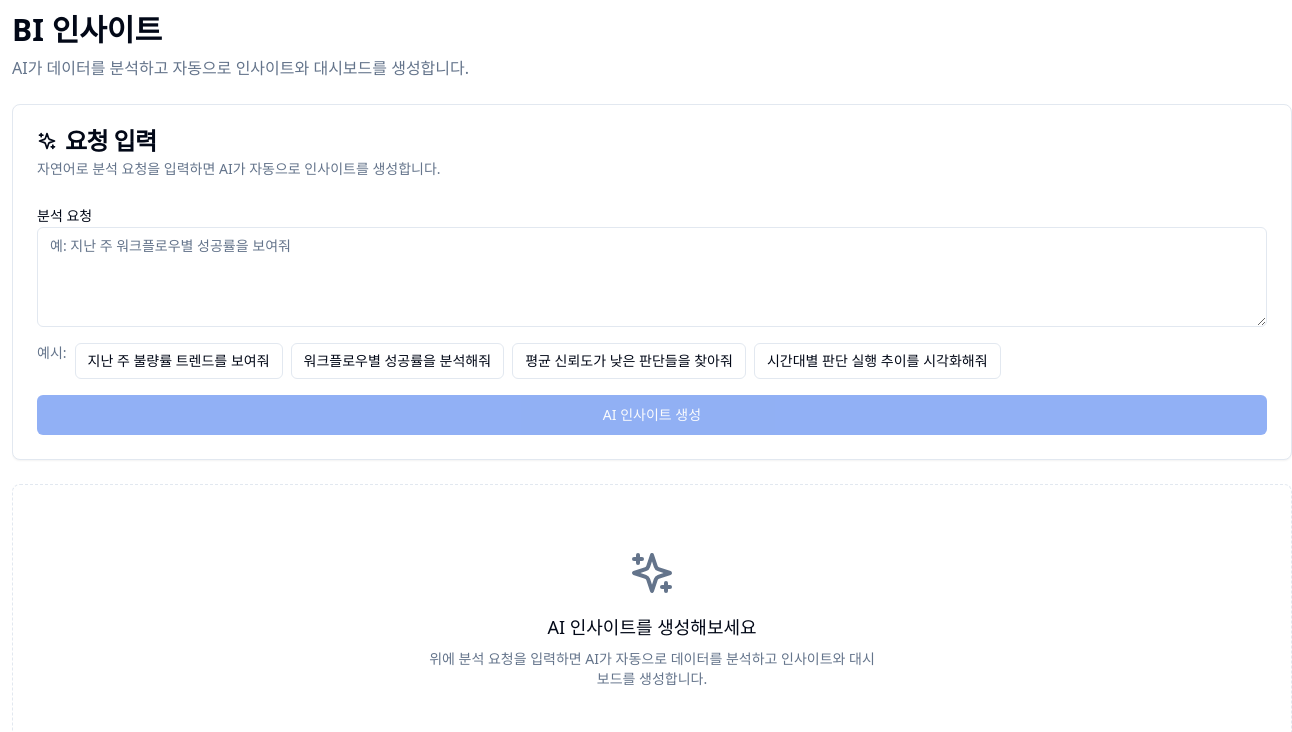
it: BiInsights › Group 2: Example Buttons › 여러 예시 버튼 클릭시 덮어쓰기
# 첫 번째 예시 클릭
Click the button "워크플로우별 성공률을 분석해줘" at (397, 361), box x1=290 y1=343 x2=504 y2=379
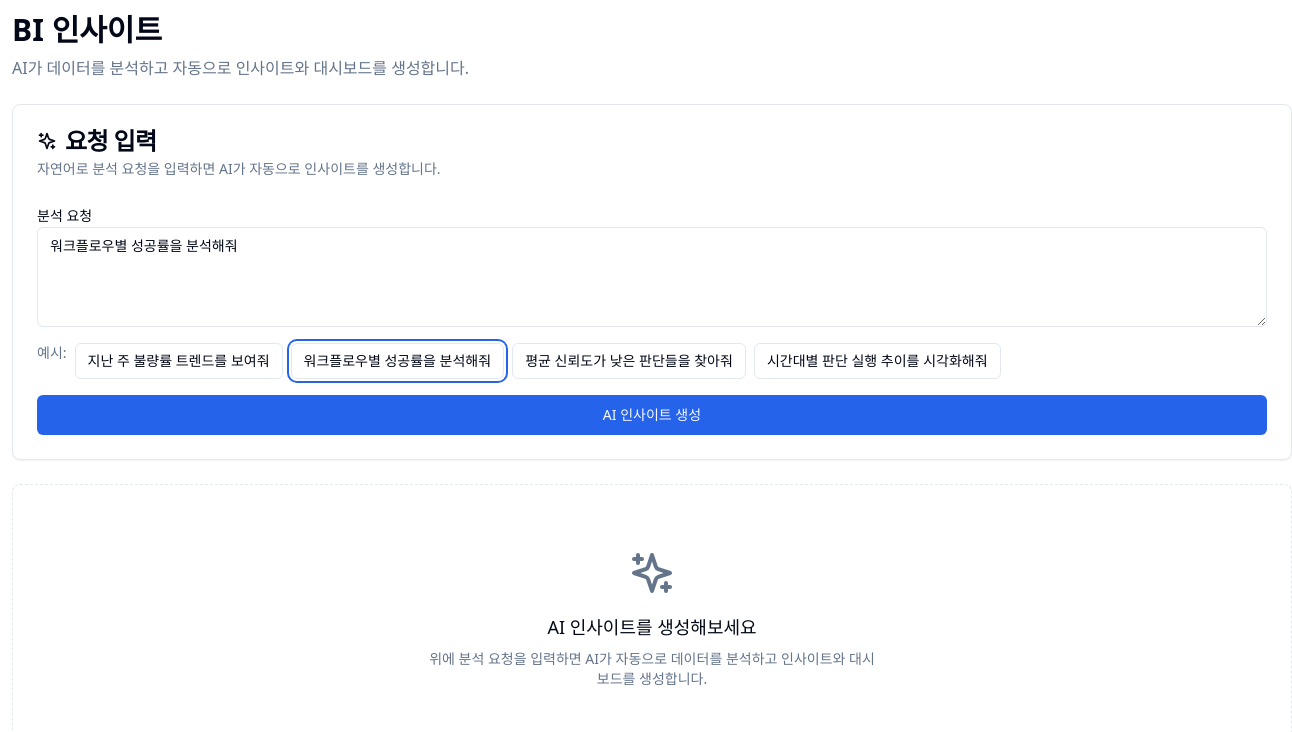
Expected: the text box holds "워크플로우별 성공률을 분석해줘", x1=37 y1=227 x2=1267 y2=327
# 두 번째 예시 클릭 (덮어쓰기)
Click the button "평균 신뢰도가 낮은 판단들을 찾아줘" at (629, 361), box x1=512 y1=343 x2=746 y2=379
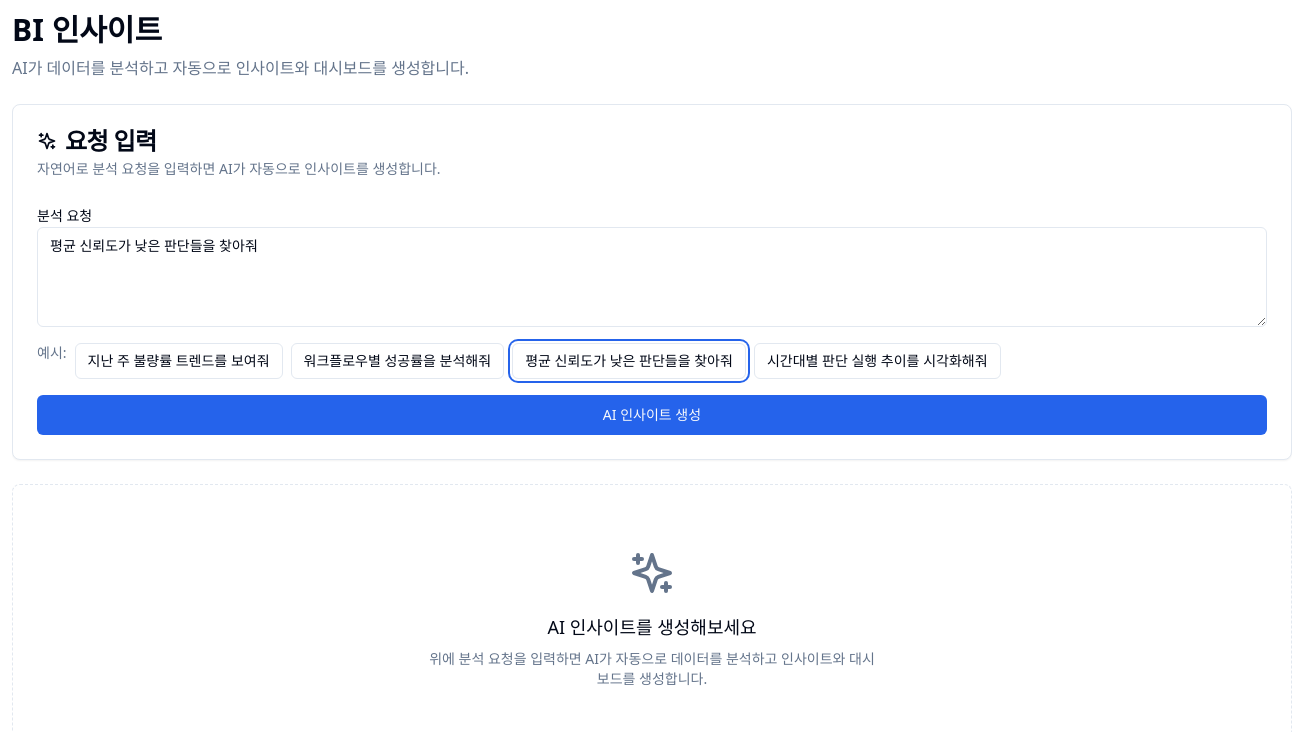
Expected: the text box holds "평균 신뢰도가 낮은 판단들을 찾아줘", x1=37 y1=227 x2=1267 y2=327
